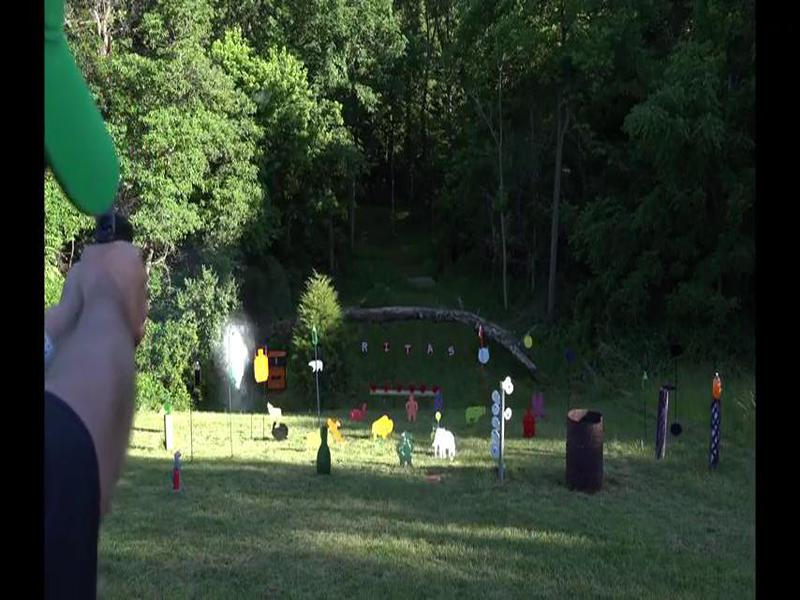Pistola: (91, 194, 148, 268)
